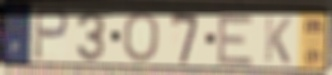3: (75, 10, 107, 64)
7: (169, 11, 199, 66)
E: (216, 11, 257, 67)
K: (262, 14, 293, 66)
O: (121, 10, 162, 64)
P: (31, 7, 71, 63)
